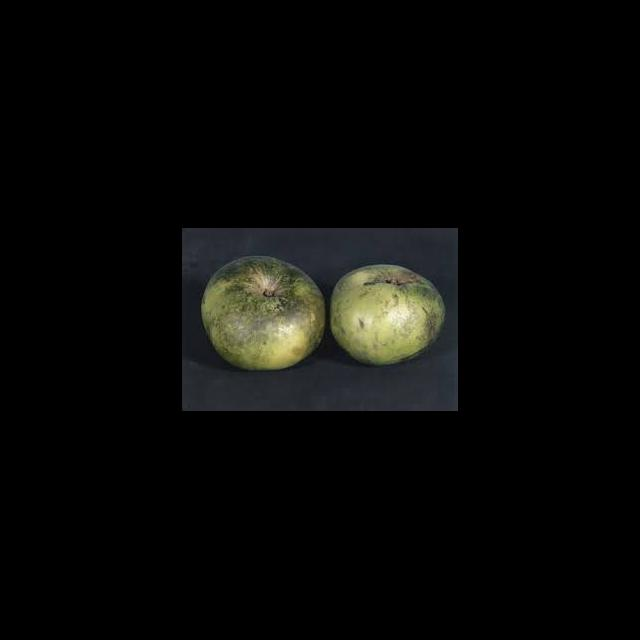food_waste: (191, 242, 458, 387)
